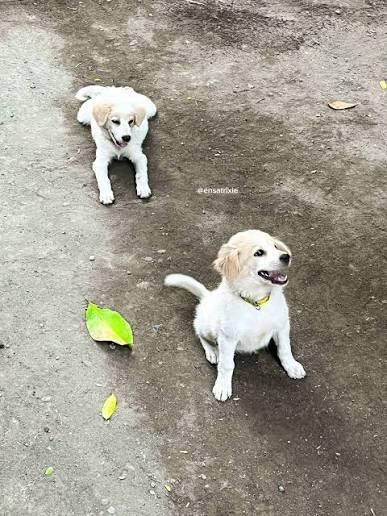puppy-dog: (163, 229, 305, 402), (75, 84, 158, 205)
